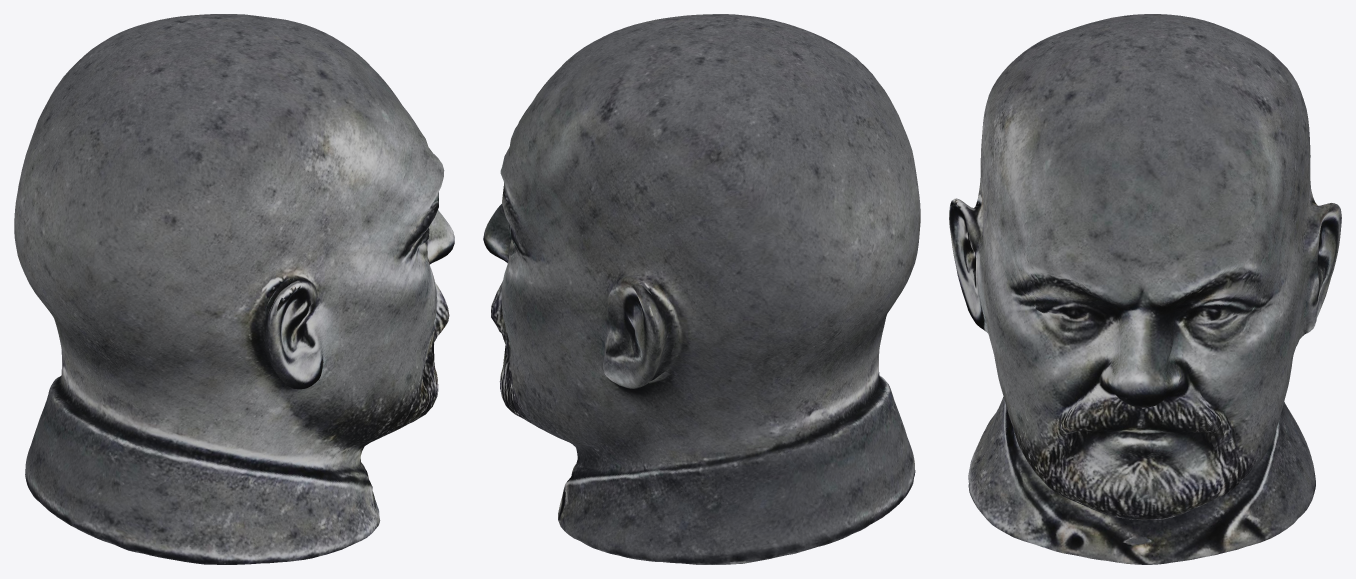
The model's file is vladimir_lenin.glb.
3 renders of one model, left to right at view 1: azimuth 30°, elevation 25°; view 2: azimuth 150°, elevation 25°; view 3: azimuth 270°, elevation 25°, orthographic. The views are drawn at different scales.
Parts seen in each view (by area): view 1: mesh_base_material_0; view 2: mesh_base_material_0; view 3: mesh_base_material_0.
Boxes of the visible parts, left/top/right/bottom form: mesh_base_material_0: left=14, top=14, right=454, bottom=564; mesh_base_material_0: left=483, top=14, right=920, bottom=564; mesh_base_material_0: left=949, top=14, right=1341, bottom=564.
Size of the model in its own units: 0.8866 by 0.9993 by 0.7597.
1 material, 1 textured.
